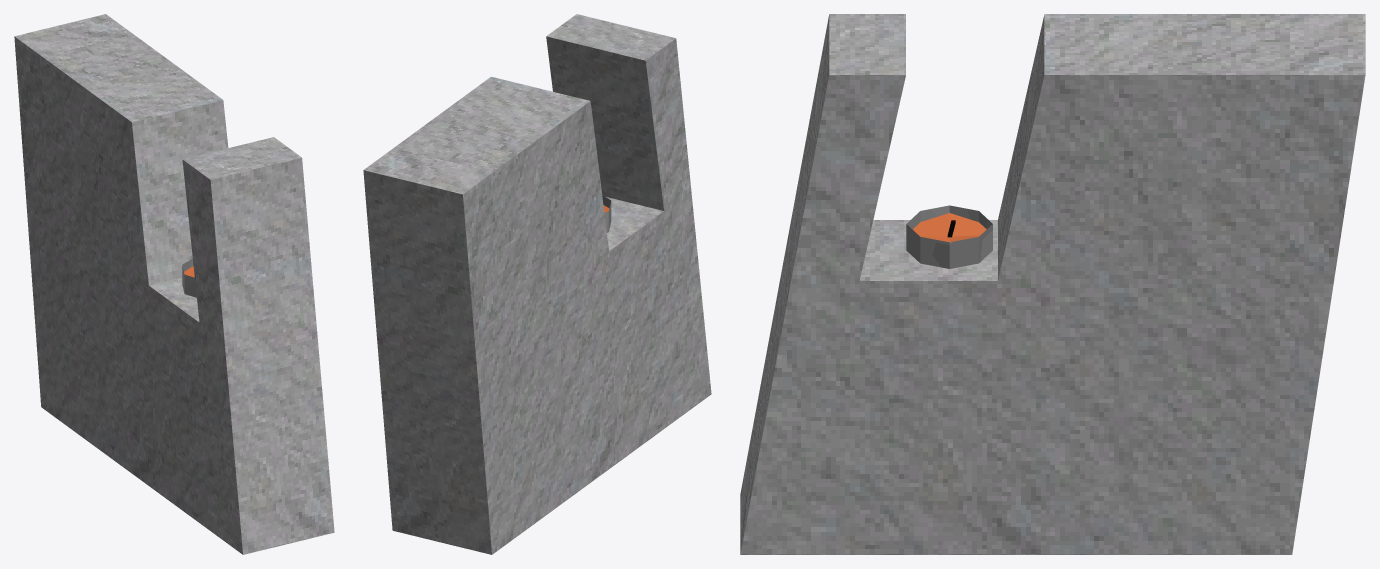
The model's file is GravSten5.glb.
The picture shows the model from 3 angles, left to right: view 1: azimuth 30°, elevation 25°; view 2: azimuth 150°, elevation 25°; view 3: azimuth 270°, elevation 25°; orthographic projection. The views are drawn at different scales.
Visible parts, largest first — view 1: GravSten_001; view 2: GravSten_001; view 3: GravSten_001.
Part boxes in pixels (box(x1,y1,x2,y2)): GravSten_001: box(14, 14, 334, 554); GravSten_001: box(363, 14, 711, 554); GravSten_001: box(740, 14, 1365, 554).
Bounding box in the file's own units: 0.4952 × 1.82 × 2.14.
Materials: 3 (1 with a texture image).
